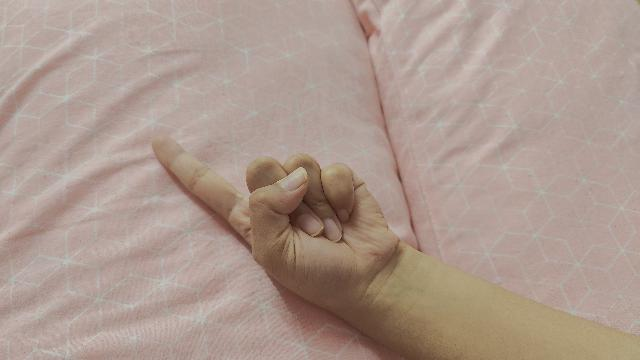soochi: (153, 137, 640, 360)
